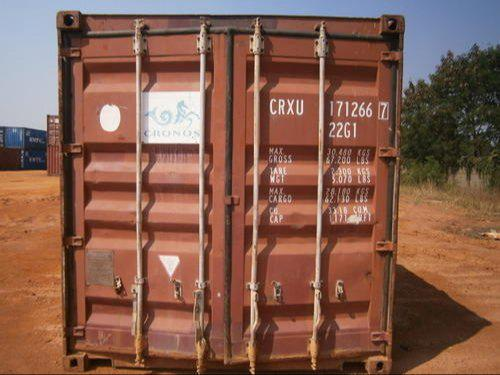ContainerNum: (268, 97, 391, 139)
